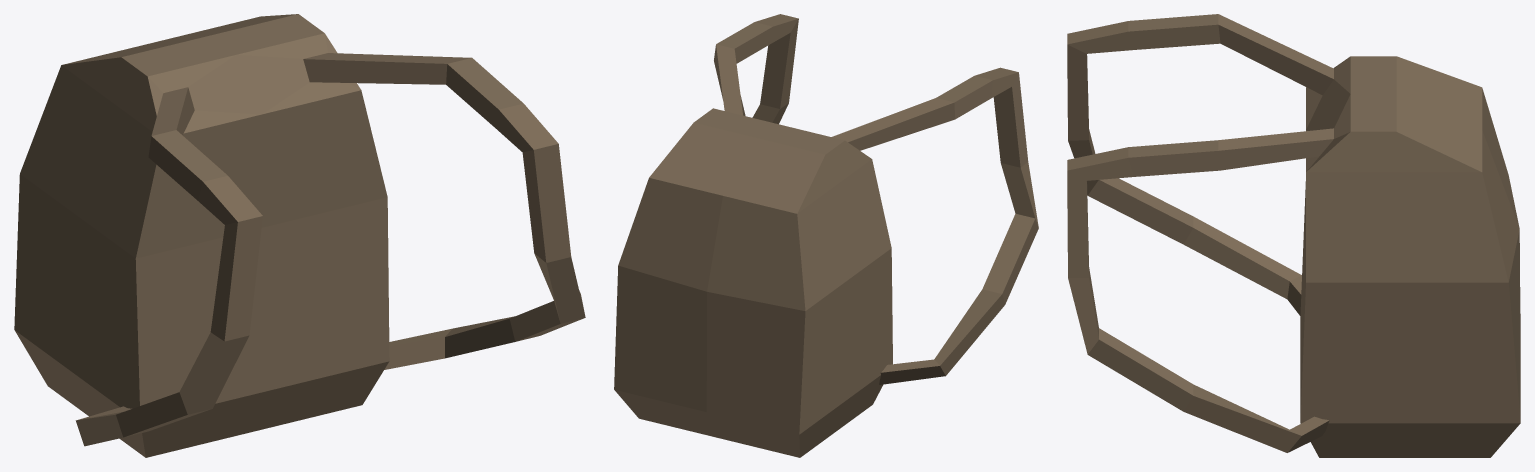
Rendered from Bag.fbx.
3 views of the same model, side by side, from view 1: azimuth 30°, elevation 25°; view 2: azimuth 150°, elevation 25°; view 3: azimuth 270°, elevation 25° (orthographic). The views are drawn at different scales.
Visible parts, largest first — view 1: Cube; view 2: Cube; view 3: Cube.
Part boxes in pixels (x1,y1,x2,y2): Cube: [14, 14, 585, 457]; Cube: [614, 14, 1038, 457]; Cube: [1067, 14, 1520, 457].
Size of the model in its own units: 67.04 by 57.39 by 71.63.
